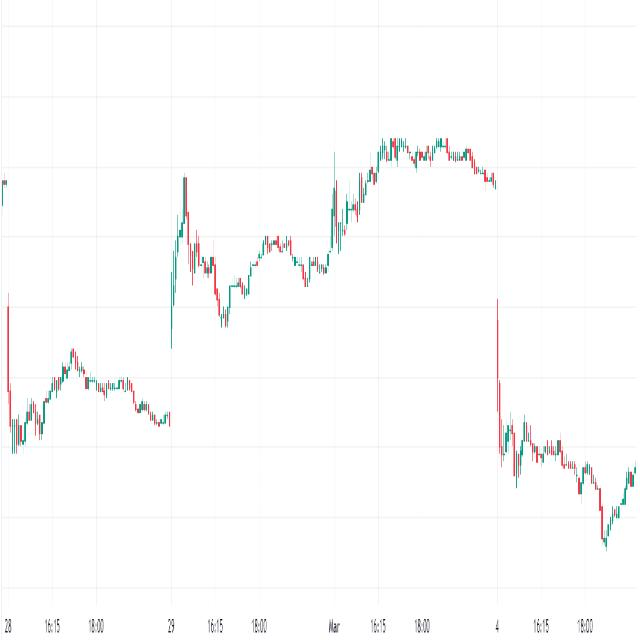Rising-Wedge: (324, 133, 385, 295)
Rounding-Top: (246, 226, 308, 298)
